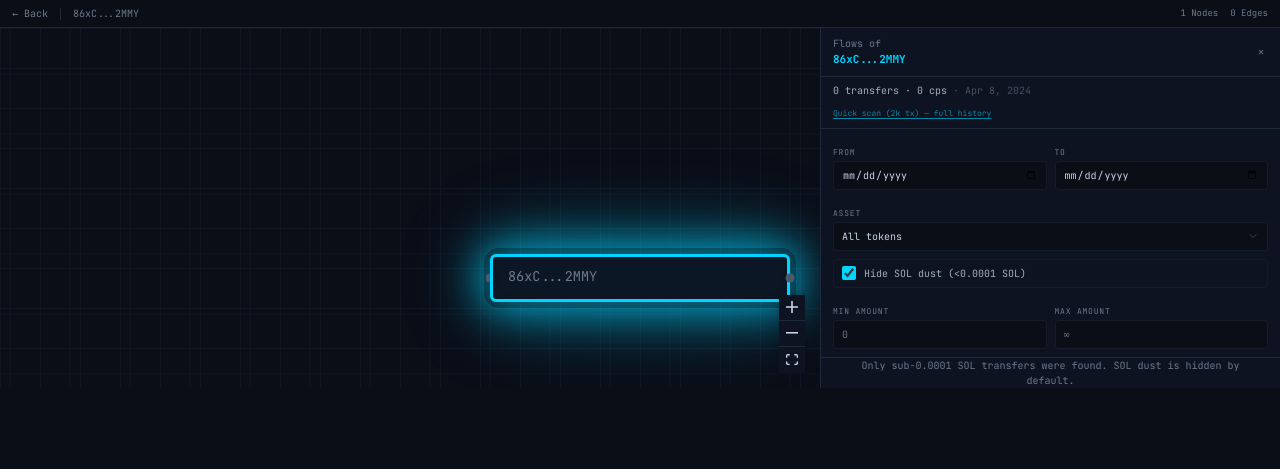
Test: TraceExplorer › treats default dust hiding as the reset baseline
The width and height of the screenshot is (1280, 469).
Expected: the button "Reset" is not shown
What coordinates should you click on to do the following:
click the checkbox labelled "Hide SOL dust (<0.0001 SOL)"
I would click on:
 (849, 273)
Its box is [842, 266, 856, 280].
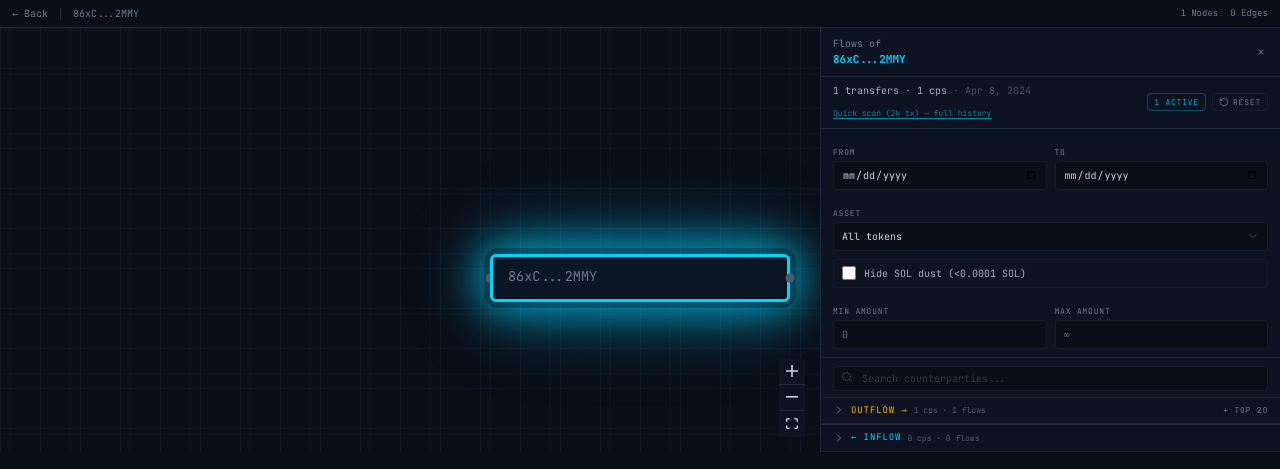
Expected: the button "Reset" is shown
Expected: the text "1 active" is shown, [1147, 93, 1206, 111]
What coordinates should you click on to do the following:
click the button "Reset"
I would click on:
 (1240, 102)
Its box is [1212, 93, 1268, 111].
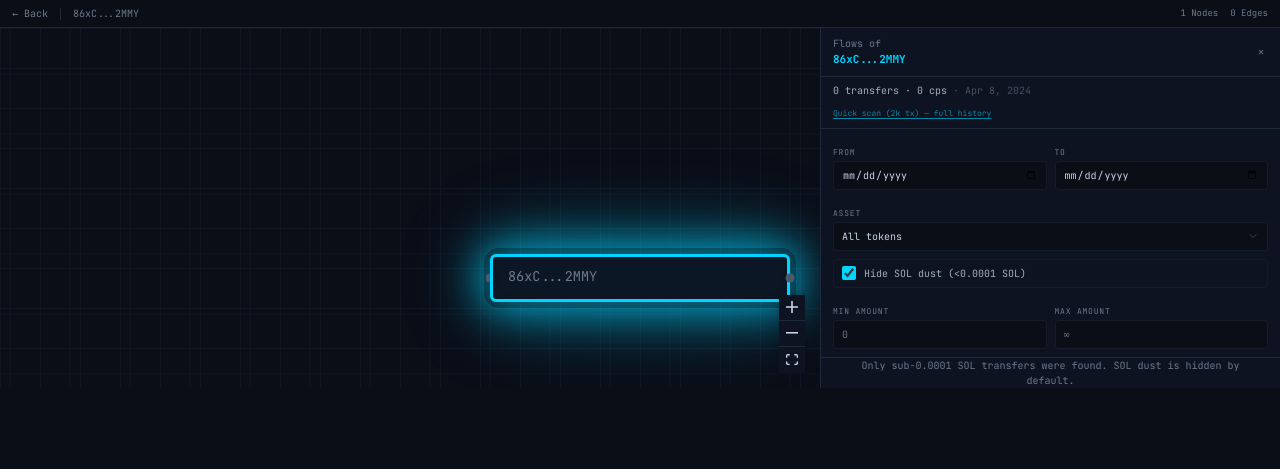
Expected: the checkbox labelled "Hide SOL dust (<0.0001 SOL)" is checked, [842, 266, 856, 280]
Expected: the button "Reset" is gone
Expected: the text "1 active" is gone
